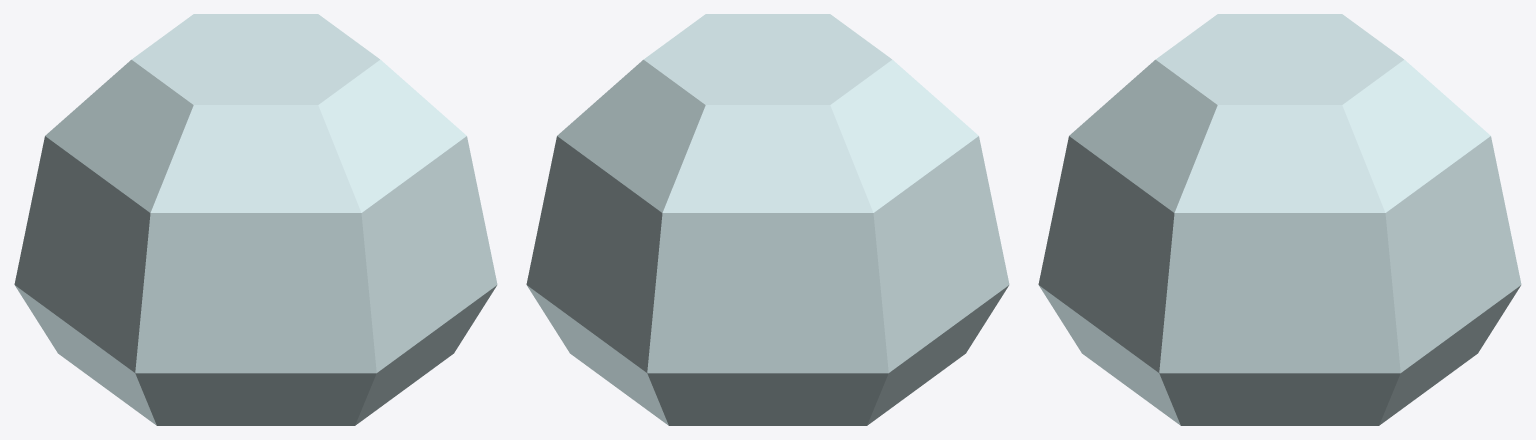
The model's file is stone_smallI.glb.
The picture shows the model from 3 angles, left to right: view 1: azimuth 30°, elevation 25°; view 2: azimuth 150°, elevation 25°; view 3: azimuth 270°, elevation 25°; orthographic projection.
Parts seen in each view (by area): view 1: stone_smallI; view 2: stone_smallI; view 3: stone_smallI.
Part boxes in pixels (x1,y1,x2,y2): stone_smallI: (14, 14, 497, 425); stone_smallI: (526, 14, 1009, 425); stone_smallI: (1038, 14, 1521, 425).
Size of the model in its own units: 0.3583 by 0.2778 by 0.4138.
Materials: 1 (1 with a texture image).
